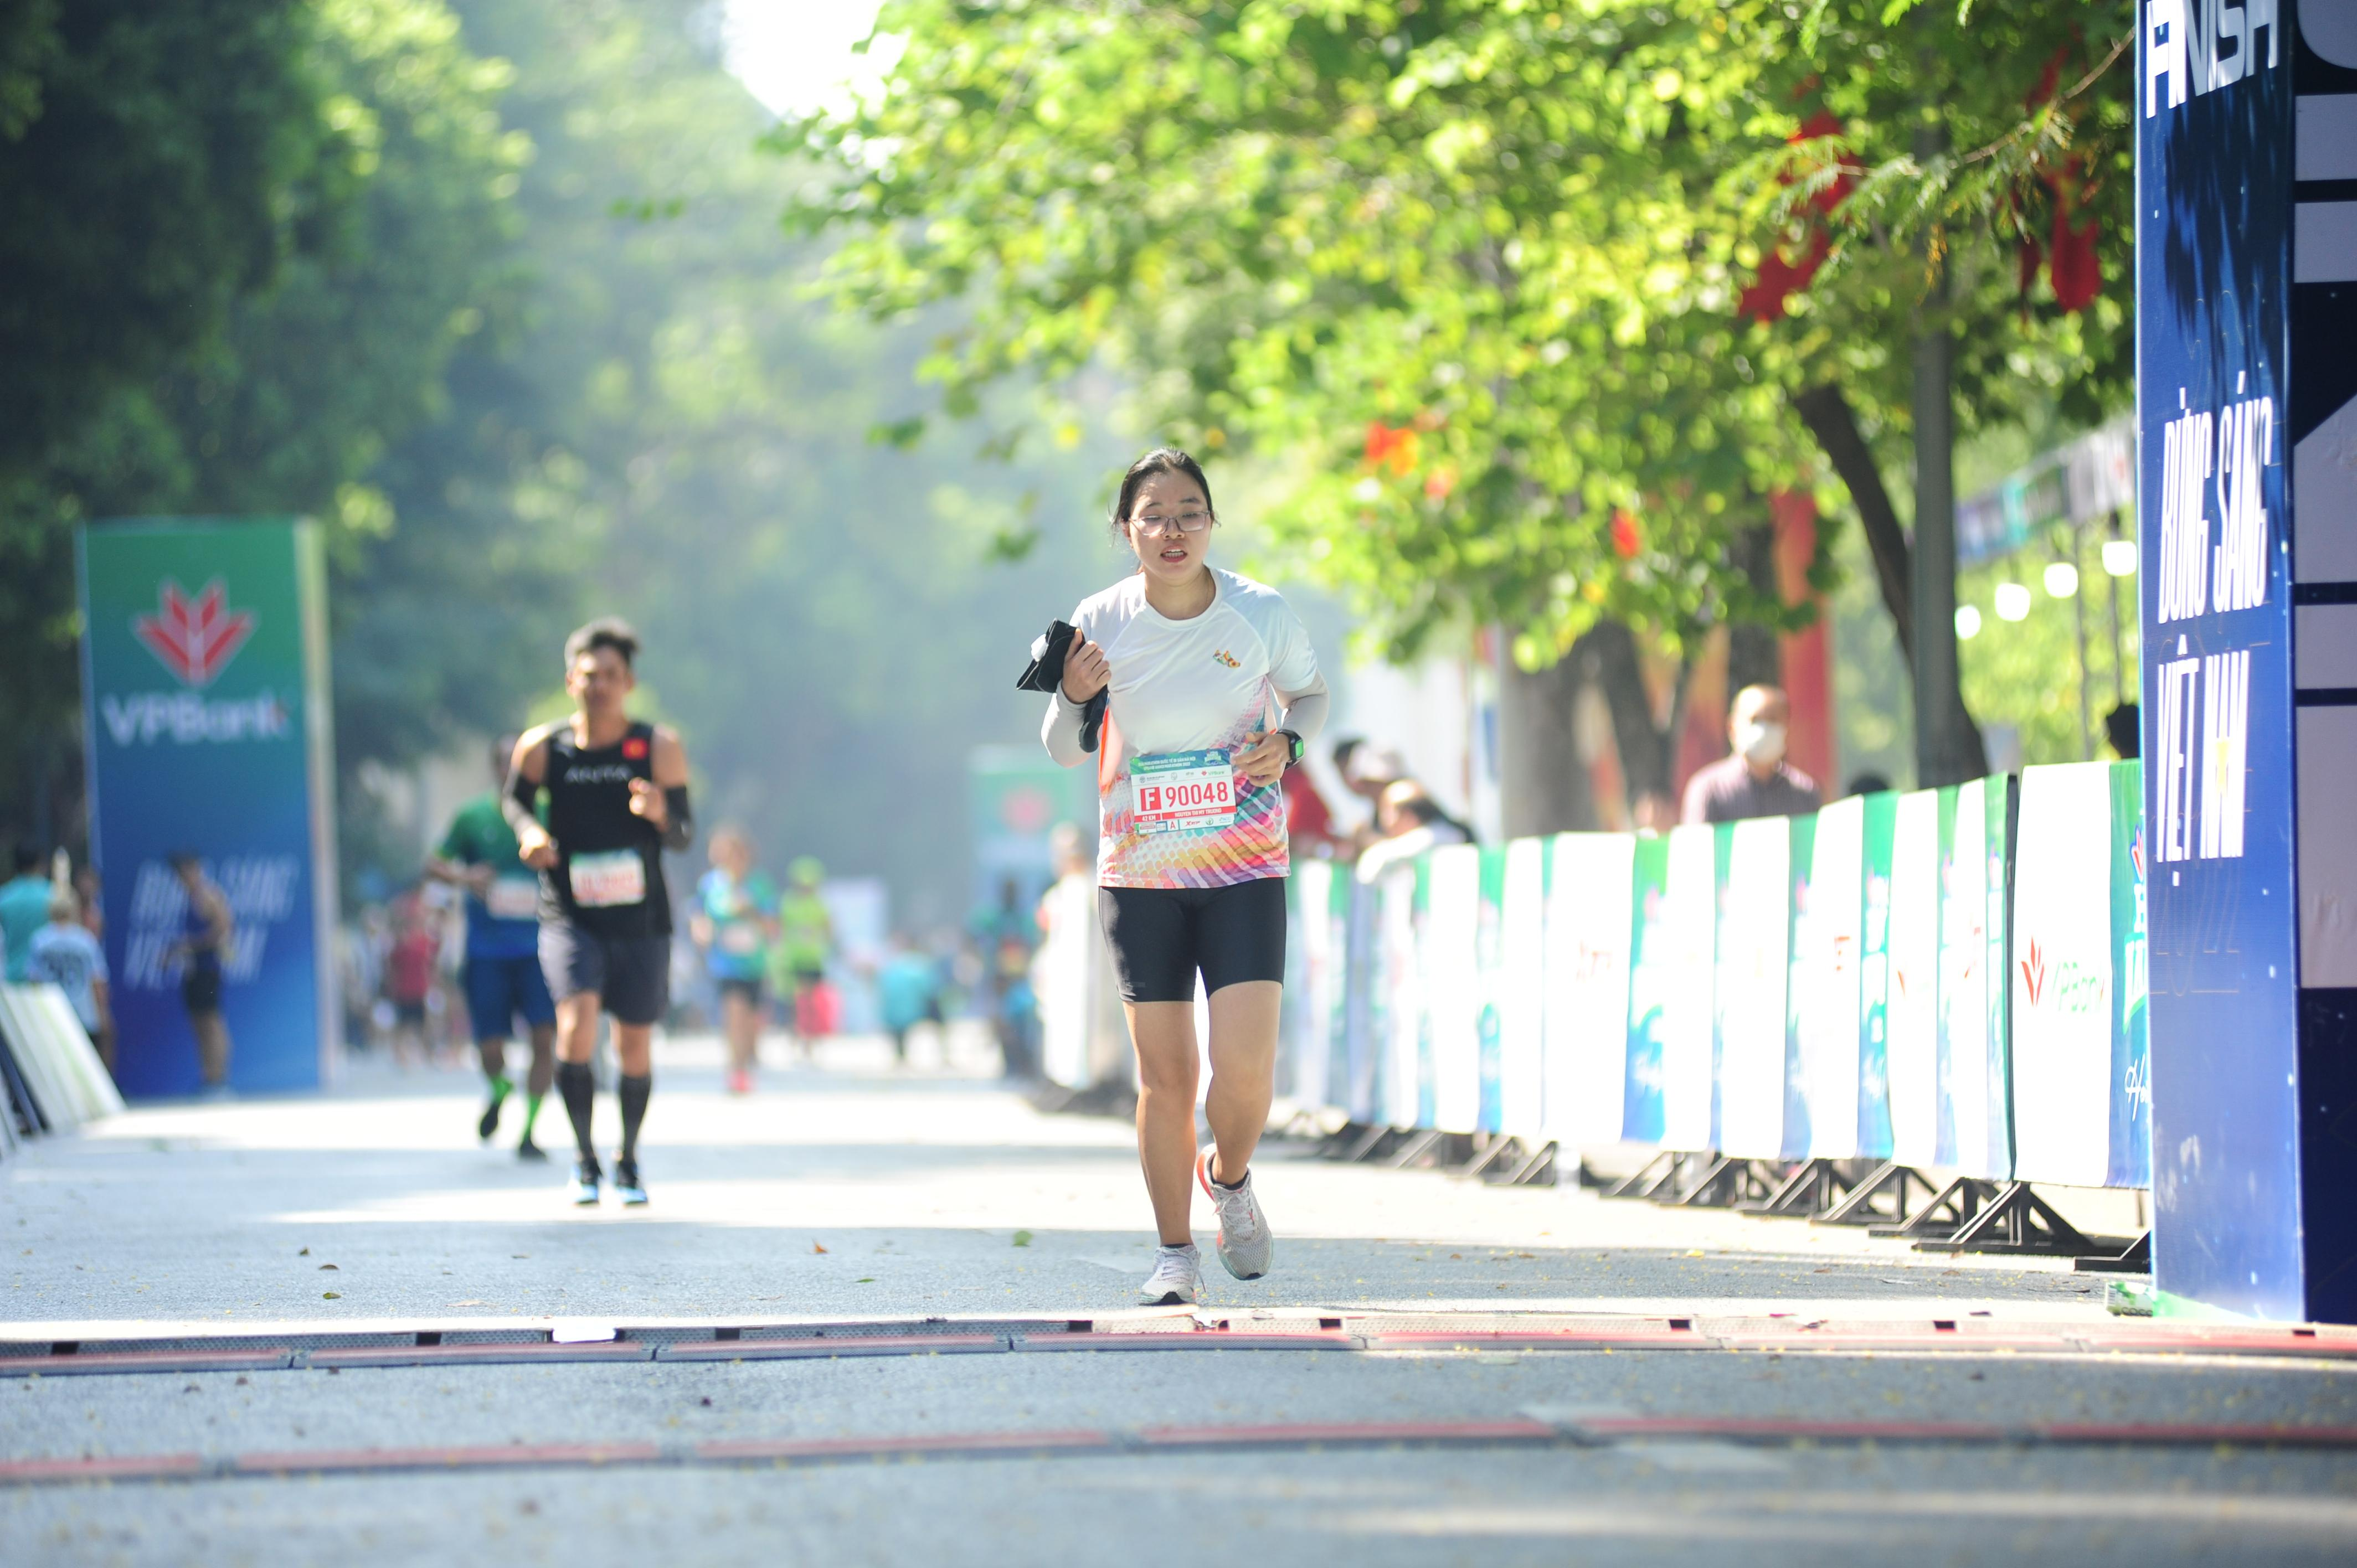bib: (1129, 751, 1237, 835), (570, 852, 646, 910), (490, 875, 541, 922)
